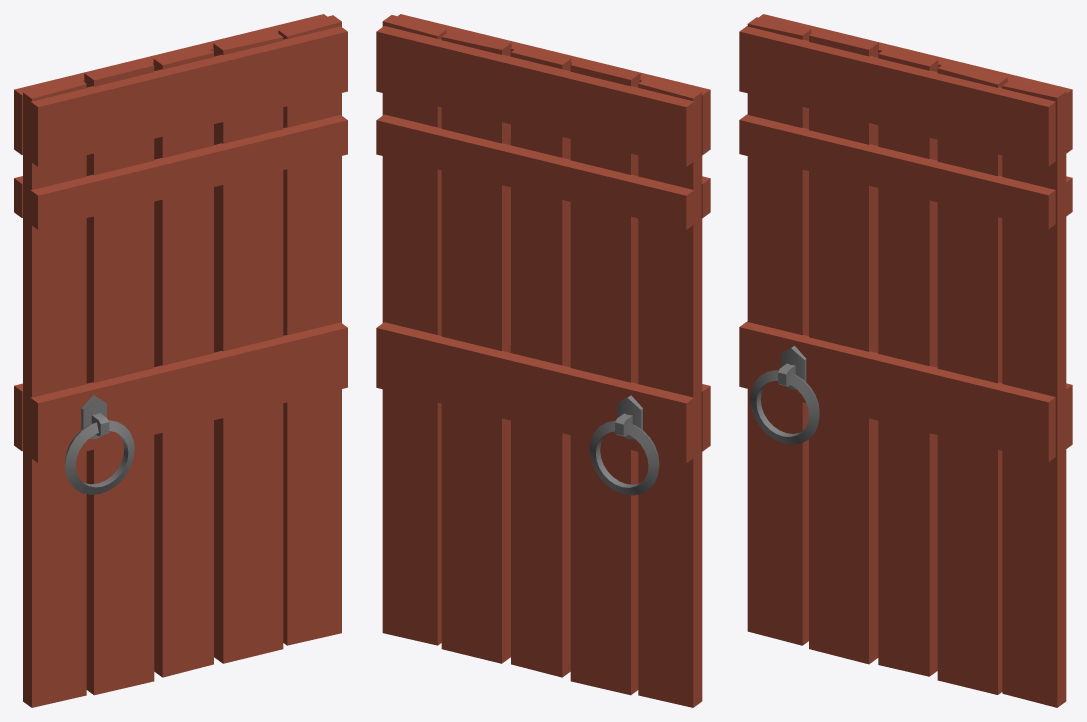
Rendered from SM_door_wooden_02.fbx.
3 views of the same model, side by side, from view 1: azimuth 30°, elevation 25°; view 2: azimuth 150°, elevation 25°; view 3: azimuth 330°, elevation 25° (orthographic).
Visible parts, largest first — view 1: Box582; view 2: Box582; view 3: Box582.
Part boxes in pixels (x1,y1,x2,y2): Box582: (14, 14, 347, 707); Box582: (376, 14, 710, 707); Box582: (739, 14, 1072, 707).
Bounding box in the file's own units: 50.35 × 95.19 × 13.53.
